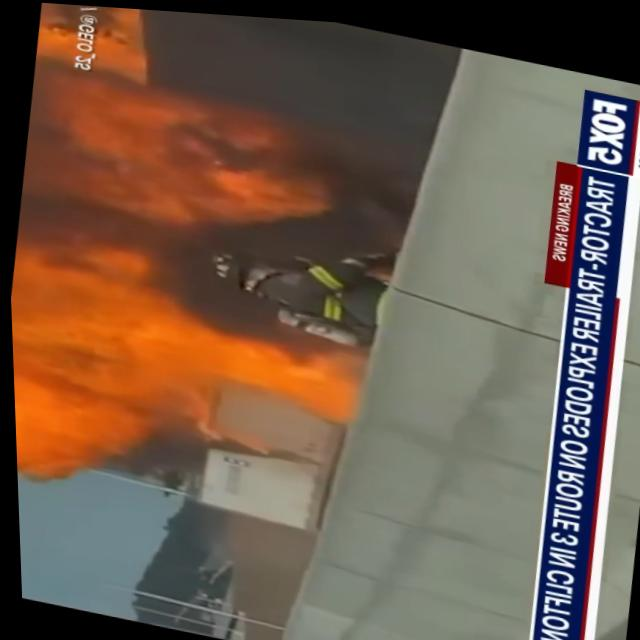Fire: (18, 56, 336, 241), (7, 251, 170, 498), (133, 300, 356, 429)
